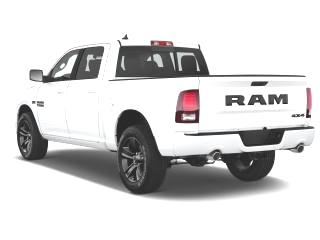ram: (220, 90, 295, 108)
